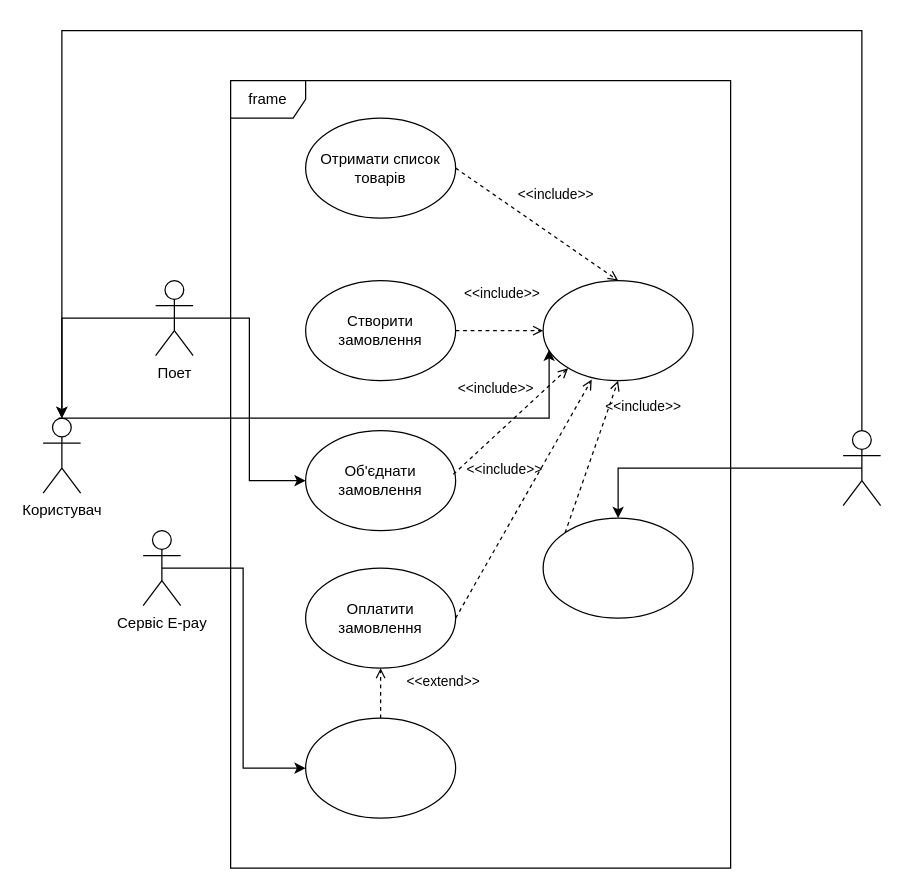
Some shapes in this 913 by 890 pixel diagram are drawn without their labels. The shapes that lost their labels are listed below. From the top down, each one's centre as x and y in pixels, then its label:
(x=617, y=330): Авторизувати користувача
(x=861, y=467): Робітник
(x=617, y=567): Сповістити про успішність замовлення
(x=380, y=767): E-pay сплата
